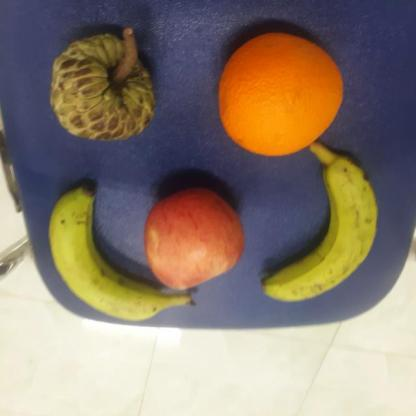annona: (50, 34, 157, 142)
apple: (144, 186, 246, 290)
banana: (49, 182, 194, 322), (264, 158, 378, 304)
orange: (218, 32, 344, 157)
